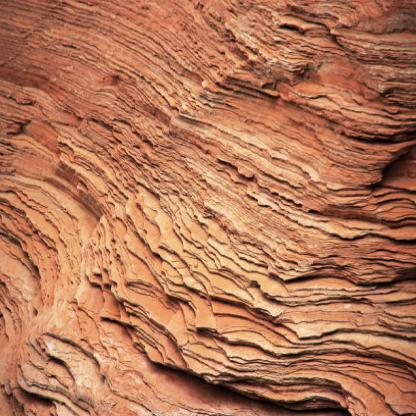Sedimentary_Sandstone: (4, 5, 415, 415)
